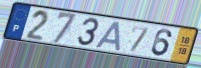2: (23, 9, 51, 42)
3: (76, 17, 100, 47)
6: (150, 28, 173, 57)
7: (52, 10, 79, 45), (128, 25, 150, 53)
A: (94, 20, 123, 52)
